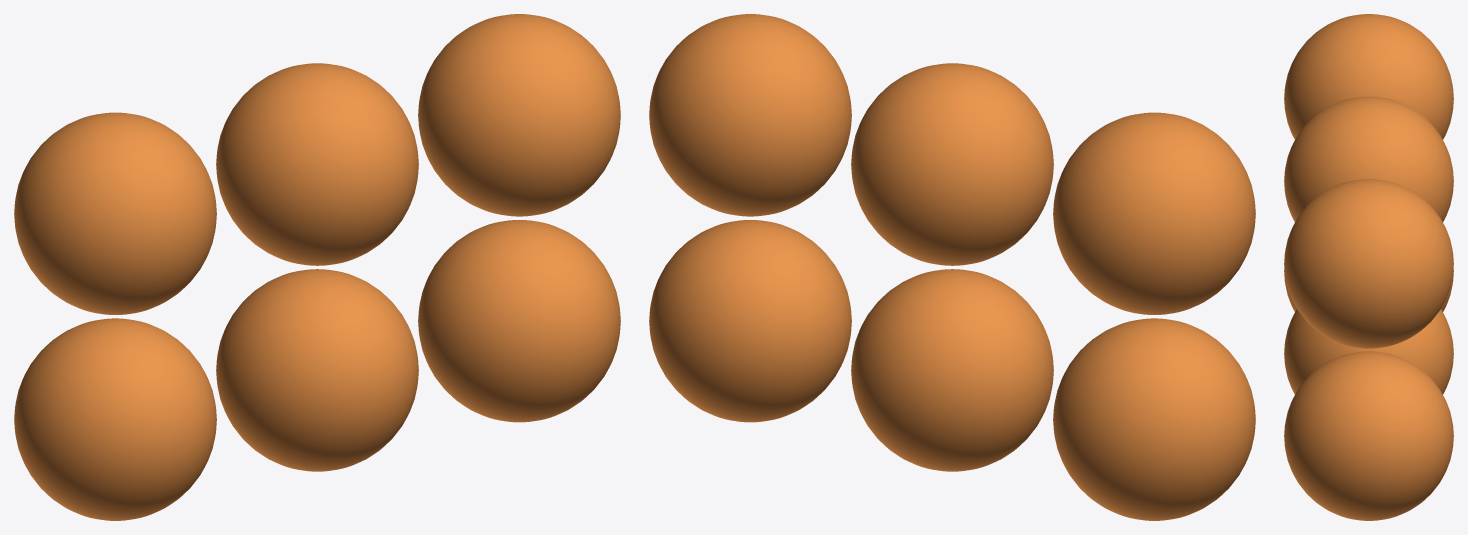
Rendered from MaterialSpheres.glb.
3 renders of one model, left to right at view 1: azimuth 30°, elevation 25°; view 2: azimuth 150°, elevation 25°; view 3: azimuth 270°, elevation 25°, orthographic. The views are drawn at different scales.
Size of the model in its own units: 6.6 by 4.24 by 2.
